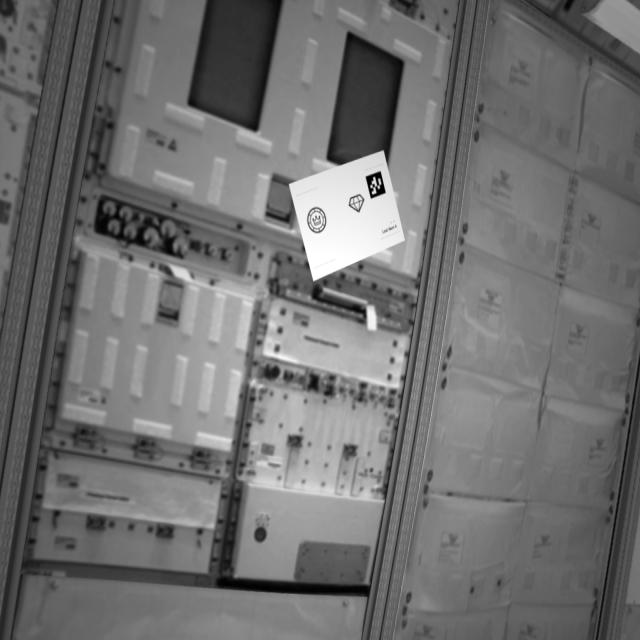coin: (307, 206, 329, 236)
diamond: (348, 193, 368, 215)
